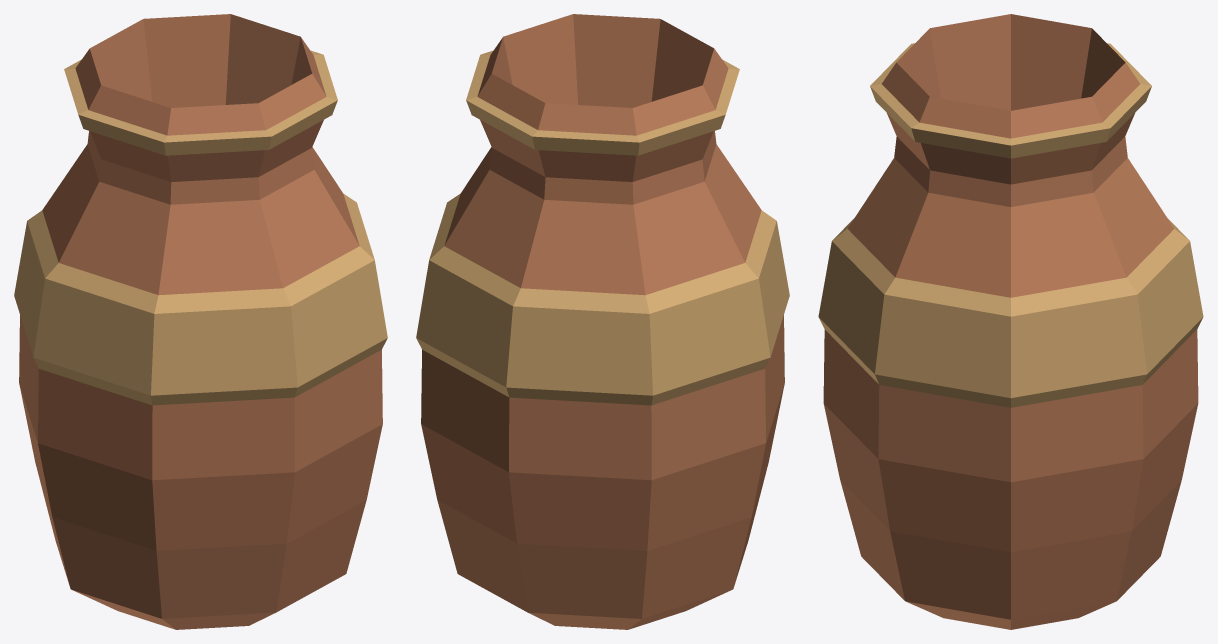
The model's file is VaseHigh.fbx.
3 views of the same model, side by side, from view 1: azimuth 30°, elevation 25°; view 2: azimuth 150°, elevation 25°; view 3: azimuth 270°, elevation 25° (orthographic).
Parts seen in each view (by area): view 1: VaseHigh; view 2: VaseHigh; view 3: VaseHigh.
Boxes of the visible parts, x1,y1,x2,y2 form: VaseHigh: (14, 14, 387, 629); VaseHigh: (416, 14, 789, 629); VaseHigh: (818, 14, 1203, 629).
Bounding box in the file's own units: 70.85 × 107 × 70.85.
Materials: 1 (1 with a texture image).
